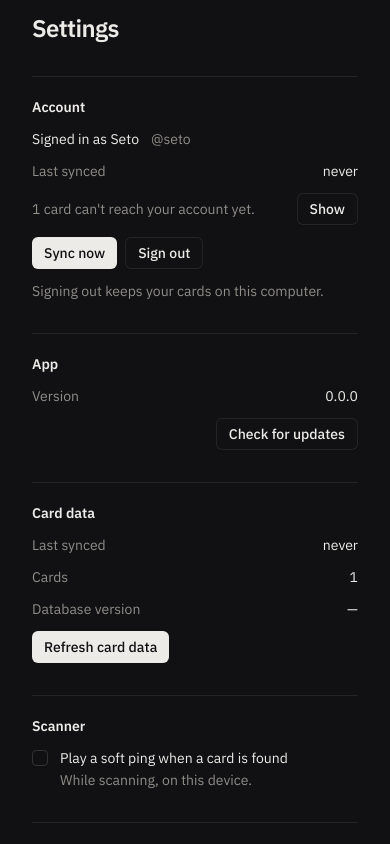
it: SettingsPage › unsynced dialog states › says nothing to show for an empty list, and uses singular copy for one card
Expected: the text "1 card can't reach your account yet." is shown, [32,199,255,219]
Click the button "Show". click: (327, 209)
box: [296,193,358,225]
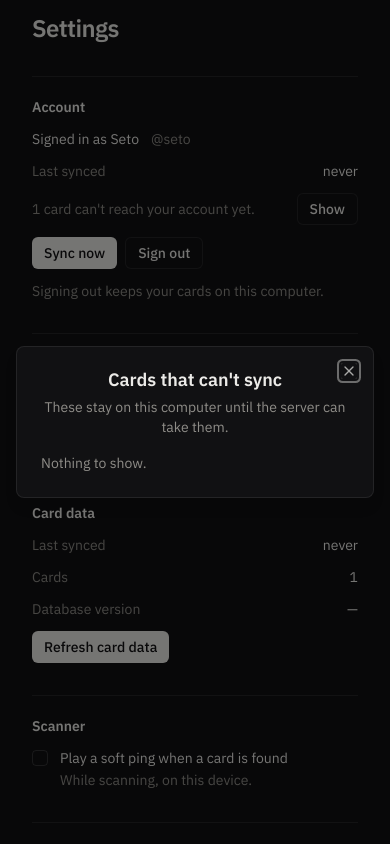
Now the text "Nothing to show." is shown, box [41,454,146,472]
